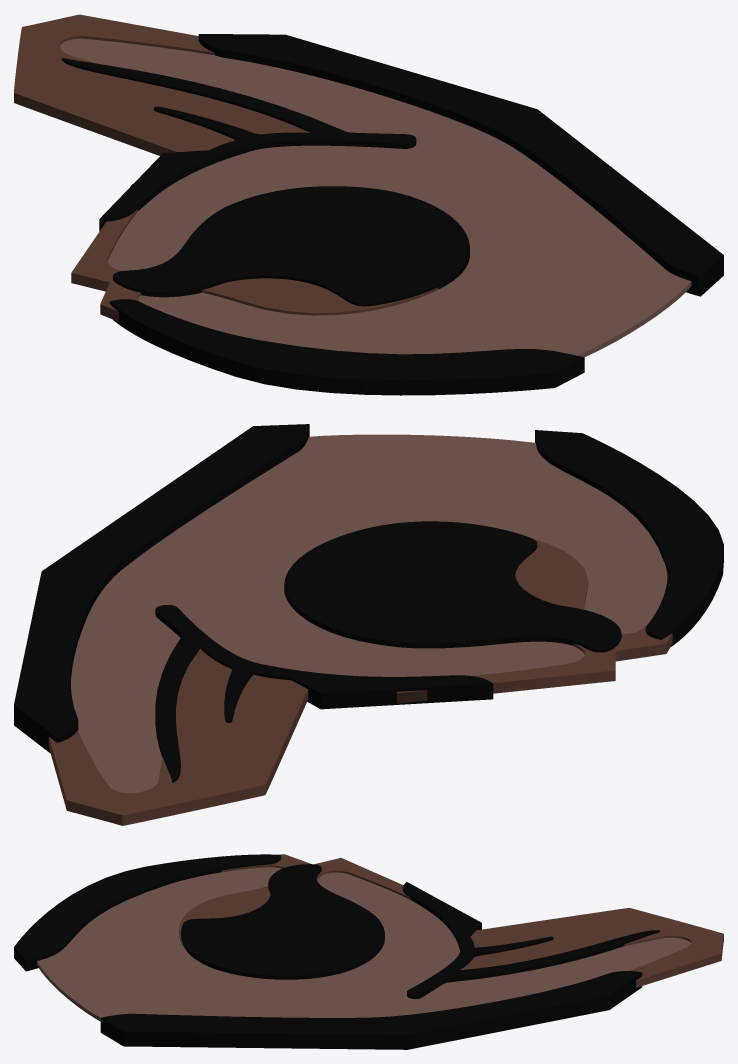
Rendered from emoji_u1f44c_1f3ff.glb.
3 renders of one model, top to bottom at view 1: azimuth 30°, elevation 25°; view 2: azimuth 150°, elevation 25°; view 3: azimuth 270°, elevation 25°, orthographic. The views are drawn at different scales.
Parts seen in each view (by area): view 1: emoji_u1f44c_1f3ff; view 2: emoji_u1f44c_1f3ff; view 3: emoji_u1f44c_1f3ff.
Boxes of the visible parts, bbox=[...] form: emoji_u1f44c_1f3ff: bbox=[14, 14, 723, 395]; emoji_u1f44c_1f3ff: bbox=[14, 424, 723, 825]; emoji_u1f44c_1f3ff: bbox=[14, 854, 723, 1049].
Size of the model in its own units: 0.0214 by 0.0008 by 0.0348.
